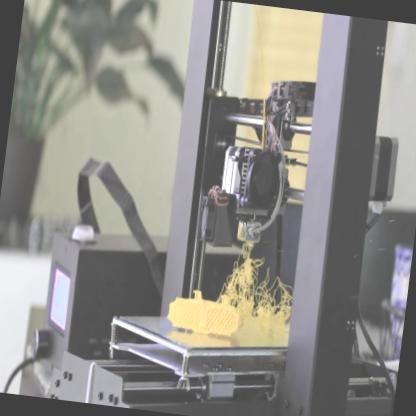fail: (220, 256, 296, 316)
